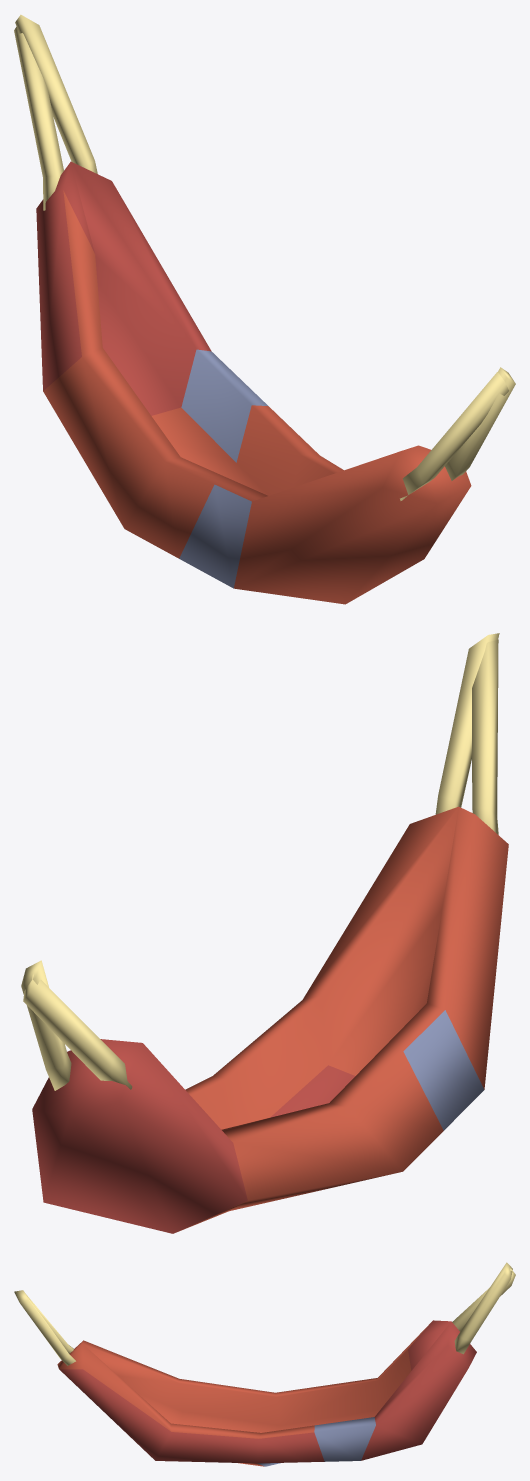
The model's file is hammock.fbx.
3 renders of one model, top to bottom at view 1: azimuth 30°, elevation 25°; view 2: azimuth 150°, elevation 25°; view 3: azimuth 270°, elevation 25°, orthographic. The views are drawn at different scales.
Parts seen in each view (by area): view 1: Torus.003; view 2: Torus.003; view 3: Torus.003.
Boxes of the visible parts, box(x1,y1,x2,y2) form: Torus.003: box(14, 14, 515, 604); Torus.003: box(21, 633, 508, 1233); Torus.003: box(14, 1262, 515, 1466).
Size of the model in its own units: 64.93 by 113 by 253.
